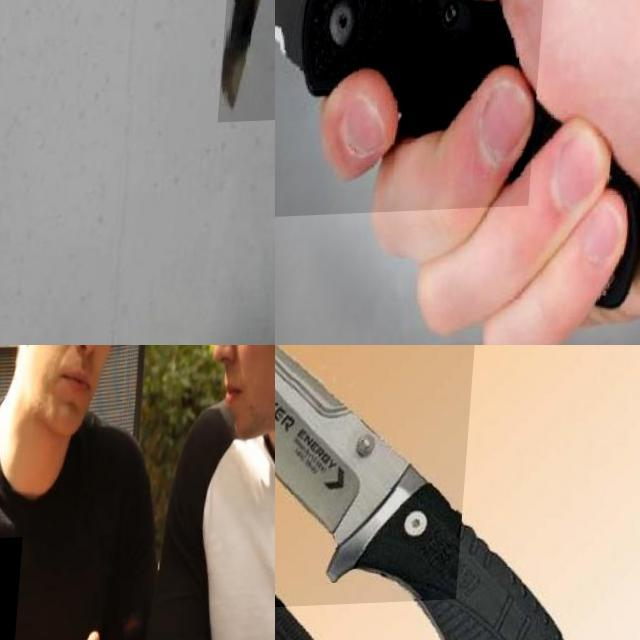-: (275, 0, 557, 226), (275, 345, 481, 613), (223, 0, 275, 171), (0, 538, 39, 640)
